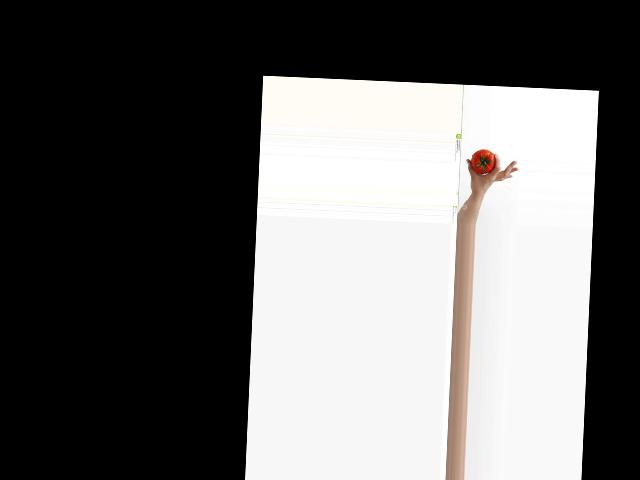tomato: (470, 149, 495, 174)
